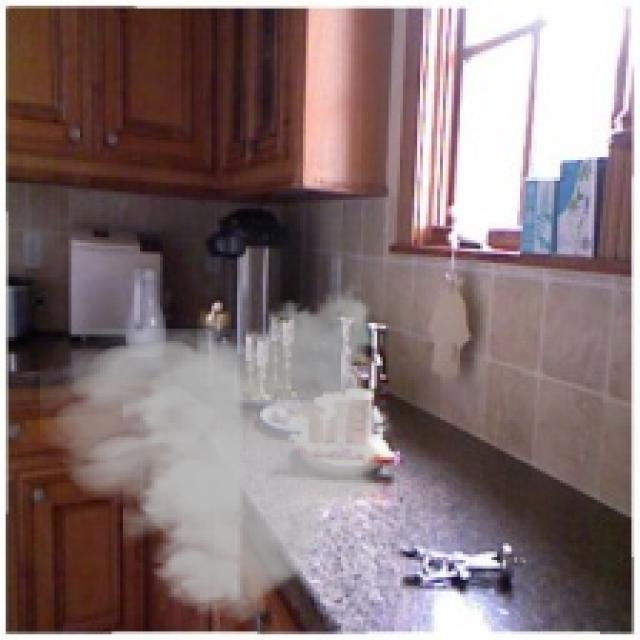smoke: (40, 274, 397, 634)
